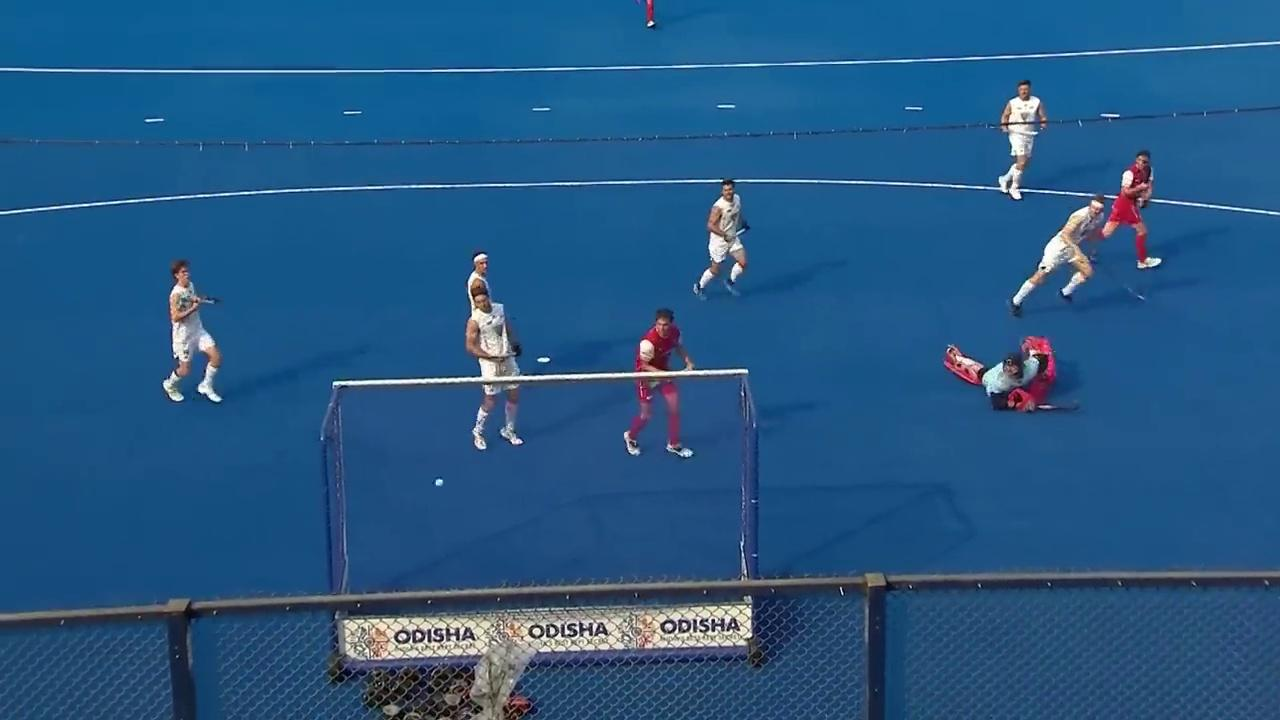ball: (422, 471, 450, 491)
